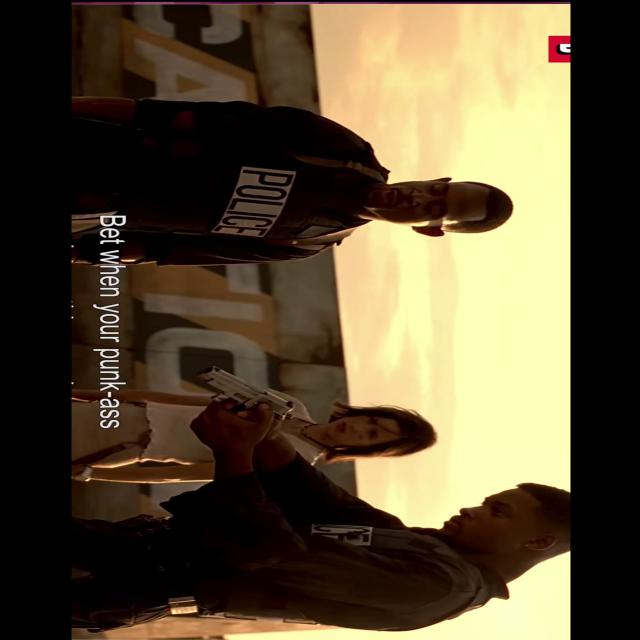weapons: (180, 362, 305, 441)
